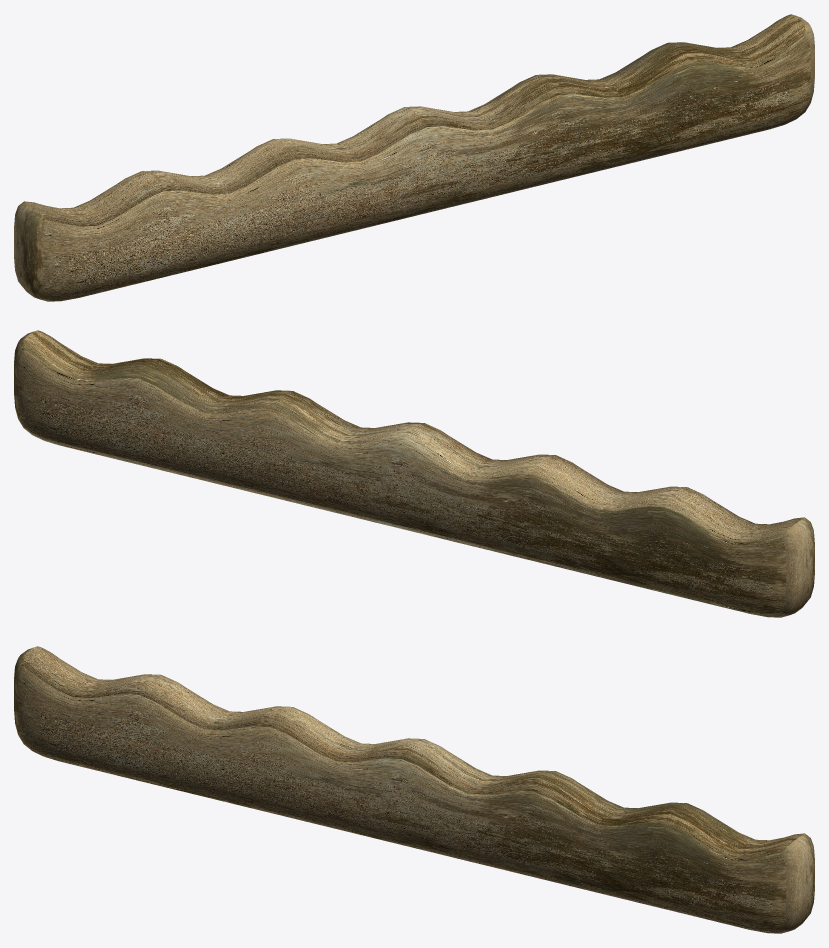
File: Wall.obj
The picture shows the model from 3 angles, top to bottom: view 1: azimuth 30°, elevation 25°; view 2: azimuth 150°, elevation 25°; view 3: azimuth 330°, elevation 25°; orthographic projection.
Size of the model in its own units: 1.91 by 0.2274 by 0.1224.
Materials: 1 (1 with a texture image).
